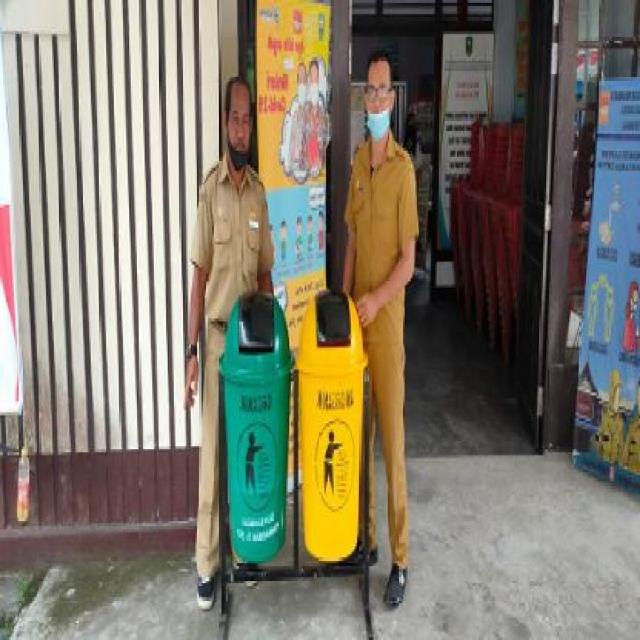garbage container: (293, 290, 376, 581), (215, 290, 294, 575)
